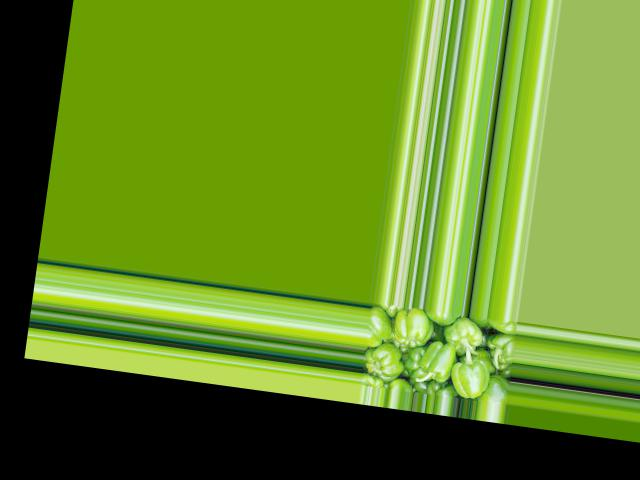bell_pepper: (474, 373, 511, 405)
